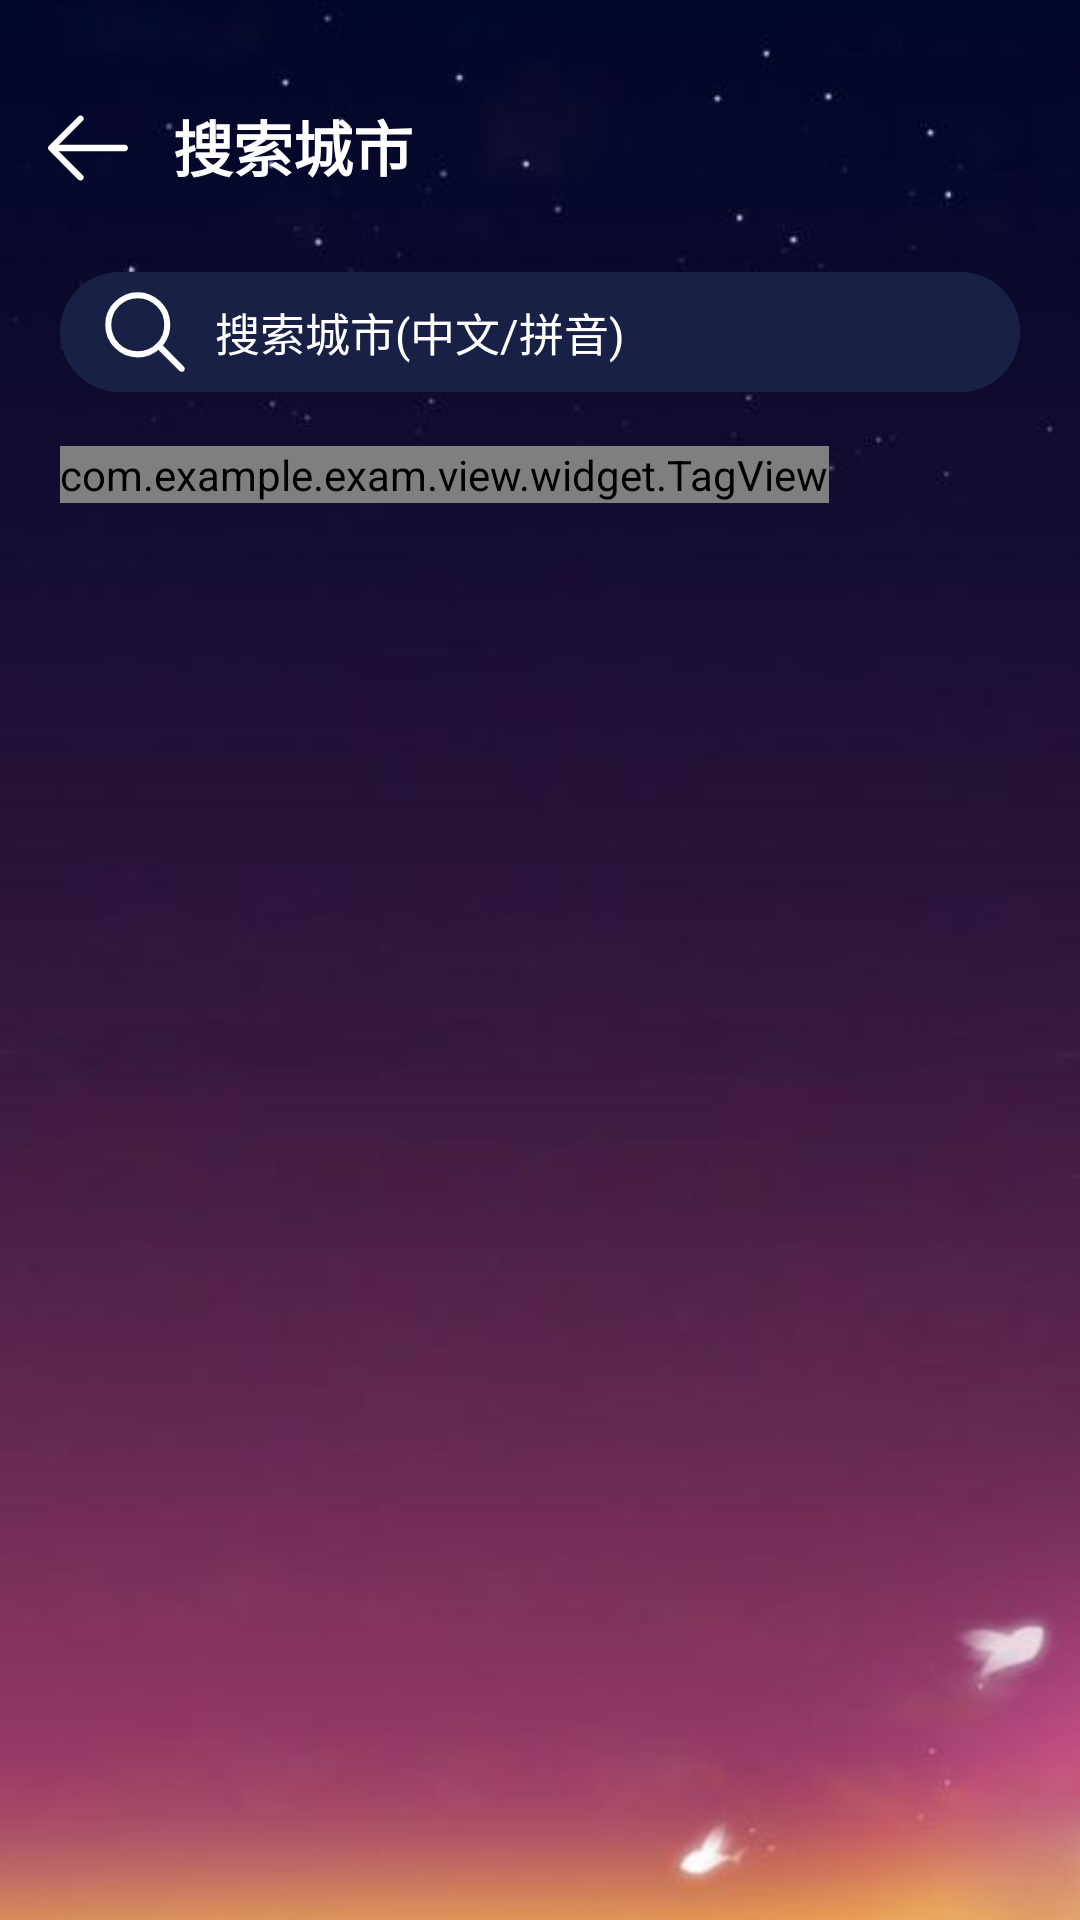

Icon click points for this 1080px x 1920px phone screenshot, format point (x, y):
back: point (88, 148)
